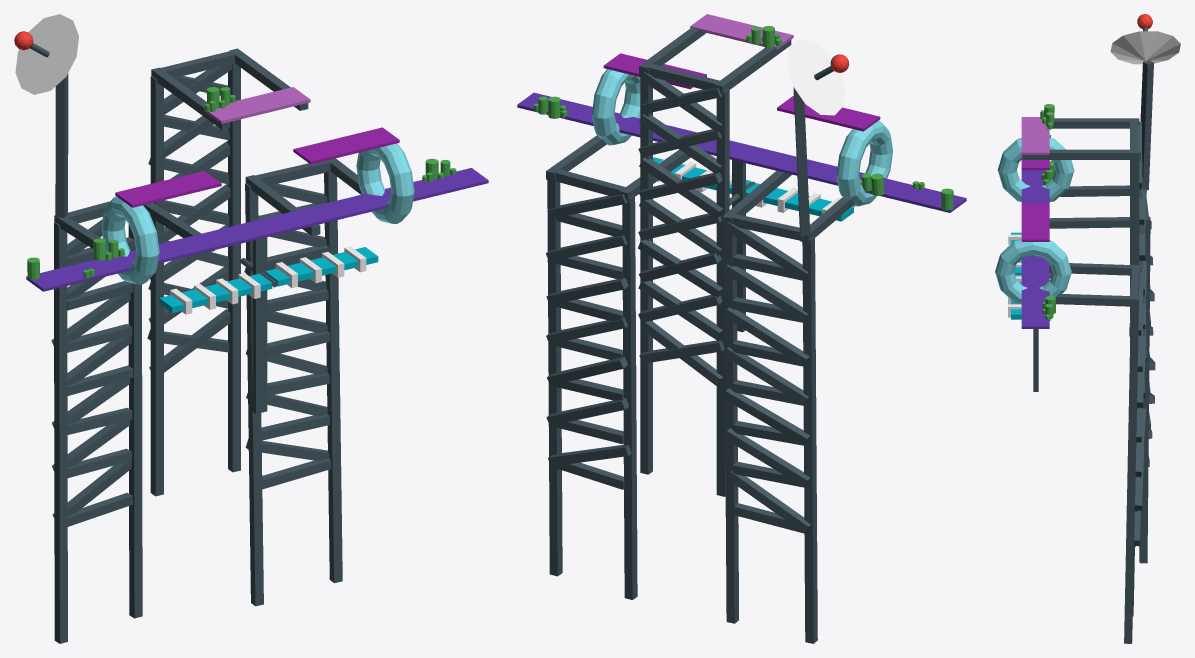
Rendered from Platforms.obj.
3 views of the same model, side by side, from view 1: azimuth 30°, elevation 25°; view 2: azimuth 150°, elevation 25°; view 3: azimuth 270°, elevation 25° (orthographic). The views are drawn at different scales.
Parts seen in each view (by area): view 1: group399127608, group266725018, group37478693, group808650833, group1070162674, group1444982317, group1982076357, group1190213017, group786624641, group1898965466, group1218177275, group1194446977 (+35 smaller); view 2: group399127608, group1982076357, group266725018, group37478693, group1070162674, group808650833, group1444982317, group1898965466, group1190213017, group786624641, group2089056207, group1194446977 (+53 smaller); view 3: group399127608, group37478693, group786624641, group1898965466, group1190213017, group1070162674, group2089056207, group277752721, group931240862, group1444982317, group1834747874, group2117752247 (+9 smaller).
Part boxes in pixels (box(x1,y1,x2,y2)): group399127608: box(26, 87, 488, 291); group266725018: box(54, 222, 67, 643); group37478693: box(324, 171, 342, 583); group808650833: box(150, 76, 163, 496); group1070162674: box(128, 224, 142, 618); group1444982317: box(228, 63, 240, 472); group1982076357: box(245, 183, 263, 606); group1190213017: box(15, 14, 78, 94); group786624641: box(356, 143, 414, 223); group1898965466: box(101, 196, 159, 284); group1218177275: box(252, 237, 267, 413); group1194446977: box(159, 273, 272, 314); group399127608: box(517, 14, 966, 212); group1982076357: box(622, 195, 637, 599); group266725018: box(802, 236, 817, 643); group37478693: box(547, 174, 562, 576); group1070162674: box(723, 218, 738, 623); group808650833: box(716, 88, 729, 496); group1444982317: box(640, 68, 652, 474); group1898965466: box(836, 120, 892, 206); group1190213017: box(787, 39, 845, 115); group786624641: box(592, 69, 640, 145); group2089056207: box(793, 87, 810, 236); group1194446977: box(746, 183, 853, 221); group399127608: box(1021, 117, 1049, 328); group37478693: box(1124, 297, 1139, 643); group786624641: box(995, 239, 1071, 304); group1898965466: box(997, 138, 1074, 202); group1190213017: box(1110, 31, 1180, 64); group1070162674: box(1139, 227, 1150, 563); group2089056207: box(1140, 60, 1153, 190); group277752721: box(1022, 149, 1139, 159); group931240862: box(1049, 216, 1150, 228); group1444982317: box(1131, 160, 1139, 278); group1834747874: box(1055, 294, 1139, 306); group2117752247: box(1052, 118, 1139, 128).
Size of the model in its own units: 1.6 by 2.13 by 0.7024.
